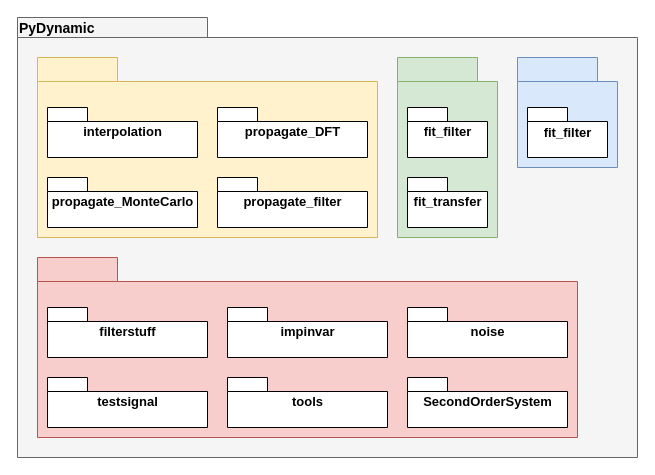
The diagram is 655 pixels wide and 475 high, and some of its shapes have lost their labels. The shapes that lost their labels are listed below. From the top down, each one's box as (x1, y1, x2, y2) in pixels, then its label:
(516, 56, 618, 168): deconvolution
(36, 56, 378, 238): uncertainty
(396, 56, 498, 238): identification
(36, 256, 578, 438): misc
